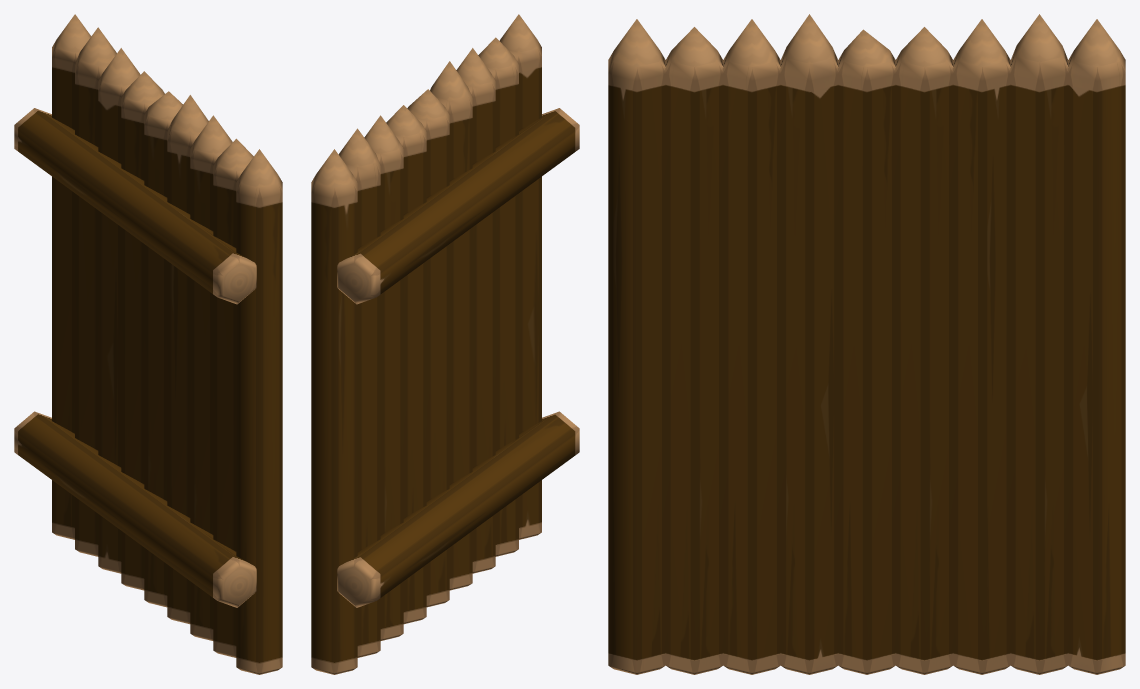
Rendered from mod_building_palisade_section_3b.fbx.
3 views of the same model, side by side, from view 1: azimuth 30°, elevation 25°; view 2: azimuth 150°, elevation 25°; view 3: azimuth 270°, elevation 25° (orthographic). The views are drawn at different scales.
Visible parts, largest first — view 1: mod_building_palisade_section_c2; view 2: mod_building_palisade_section_c2; view 3: mod_building_palisade_section_c2.
Part boxes in pixels (<box>): mod_building_palisade_section_c2: <box>14,14,282,674</box>; mod_building_palisade_section_c2: <box>311,14,579,674</box>; mod_building_palisade_section_c2: <box>608,14,1125,674</box>.
Bounding box in the file's own units: 62.28 × 416 × 300.
